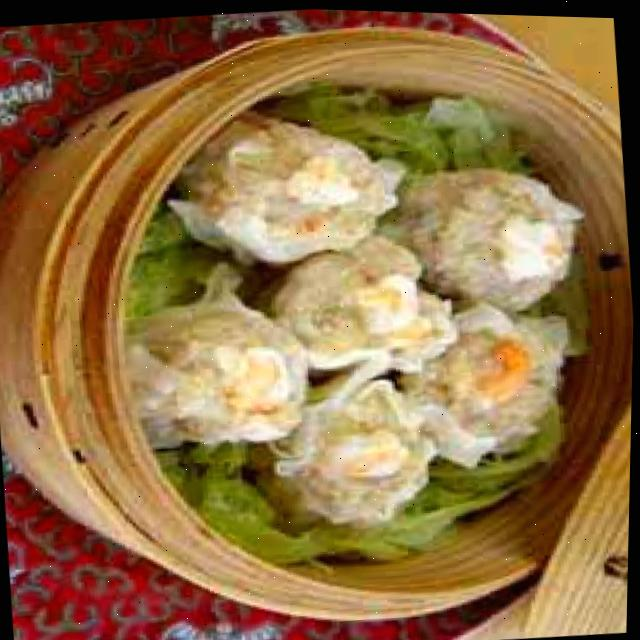带馅早点: (146, 95, 610, 538)
